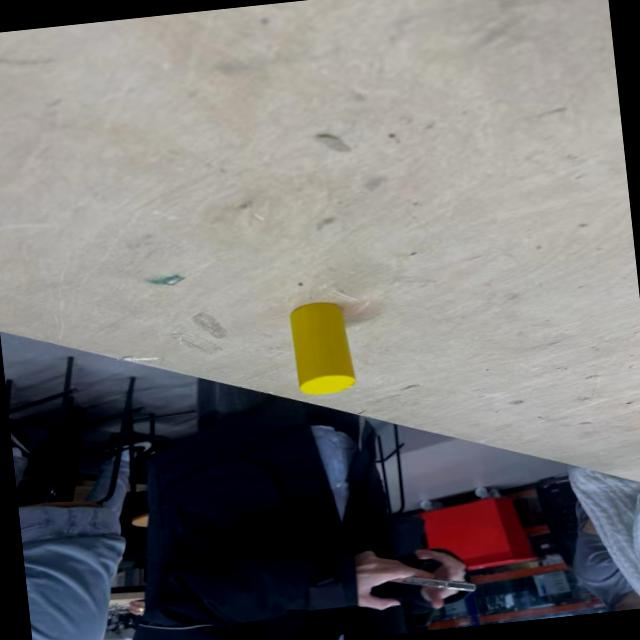yellow_cylinder: (288, 299, 358, 398)
